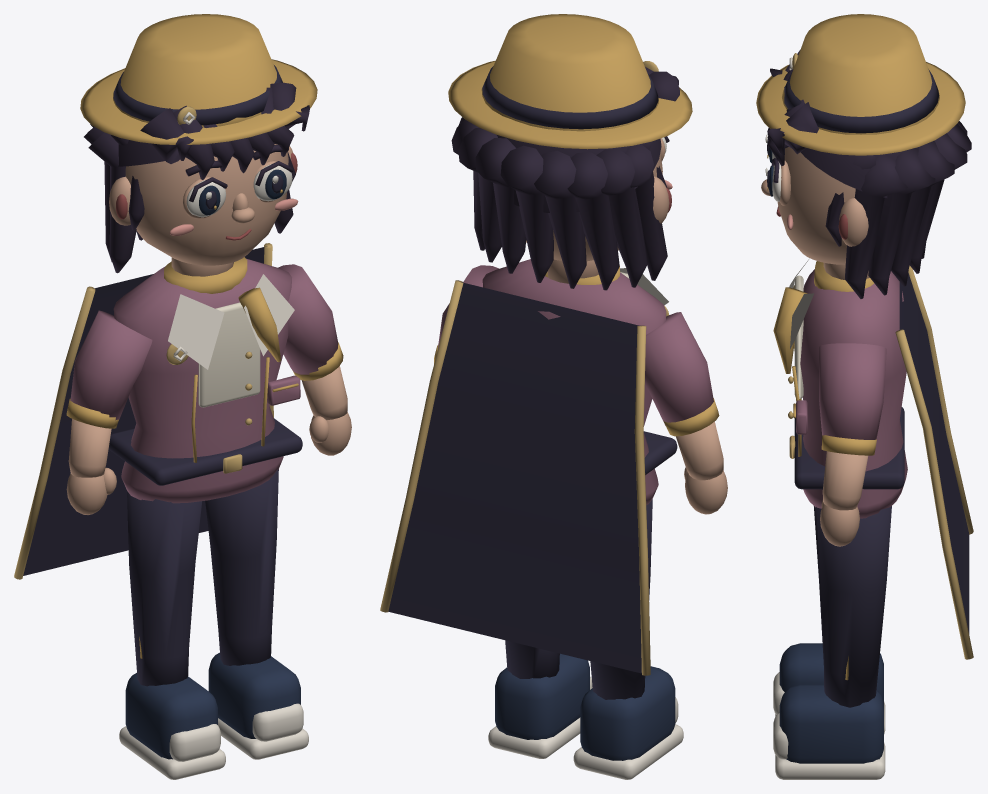
Rendered from xingyin-characters-v1__elite_dragon_hunter.glb.
3 views of the same model, side by side, from view 1: azimuth 30°, elevation 25°; view 2: azimuth 150°, elevation 25°; view 3: azimuth 270°, elevation 25° (orthographic). The views are drawn at different scales.
Visible parts, largest first — view 1: figure.026; view 2: figure.026; view 3: figure.026.
Part boxes in pixels (<box>): figure.026: <box>14,14,351,779</box>; figure.026: <box>380,14,727,779</box>; figure.026: <box>756,14,973,779</box>.
Size of the model in its own units: 1.1 by 2.63 by 0.7295.
